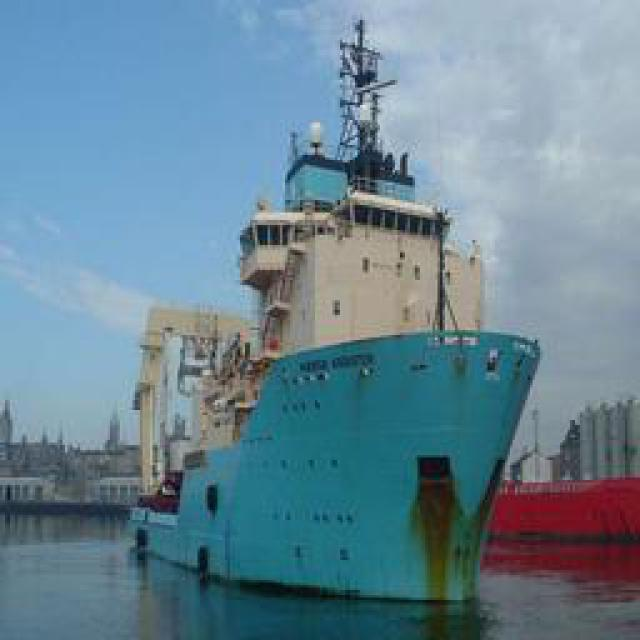Ship: (163, 2, 538, 630)
